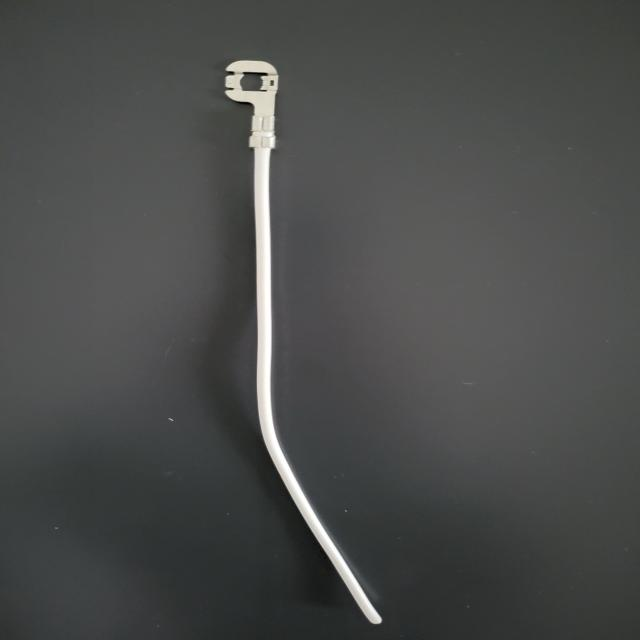defect: (218, 107, 313, 169)
